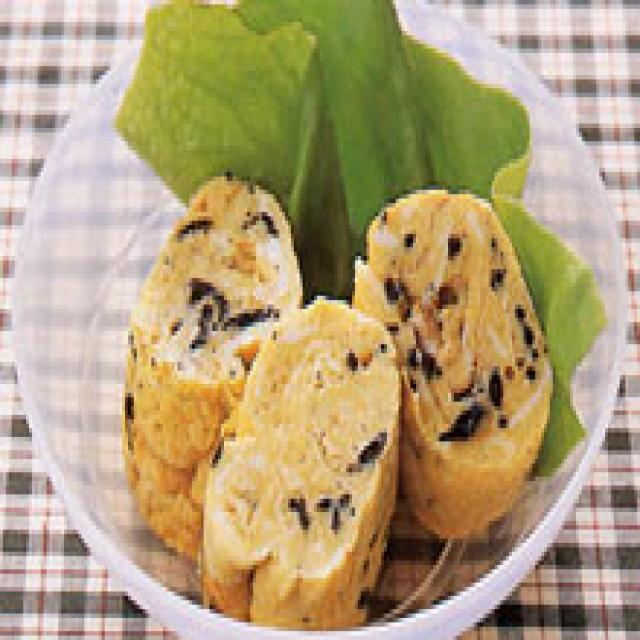鸡蛋料理: (108, 150, 550, 640)
